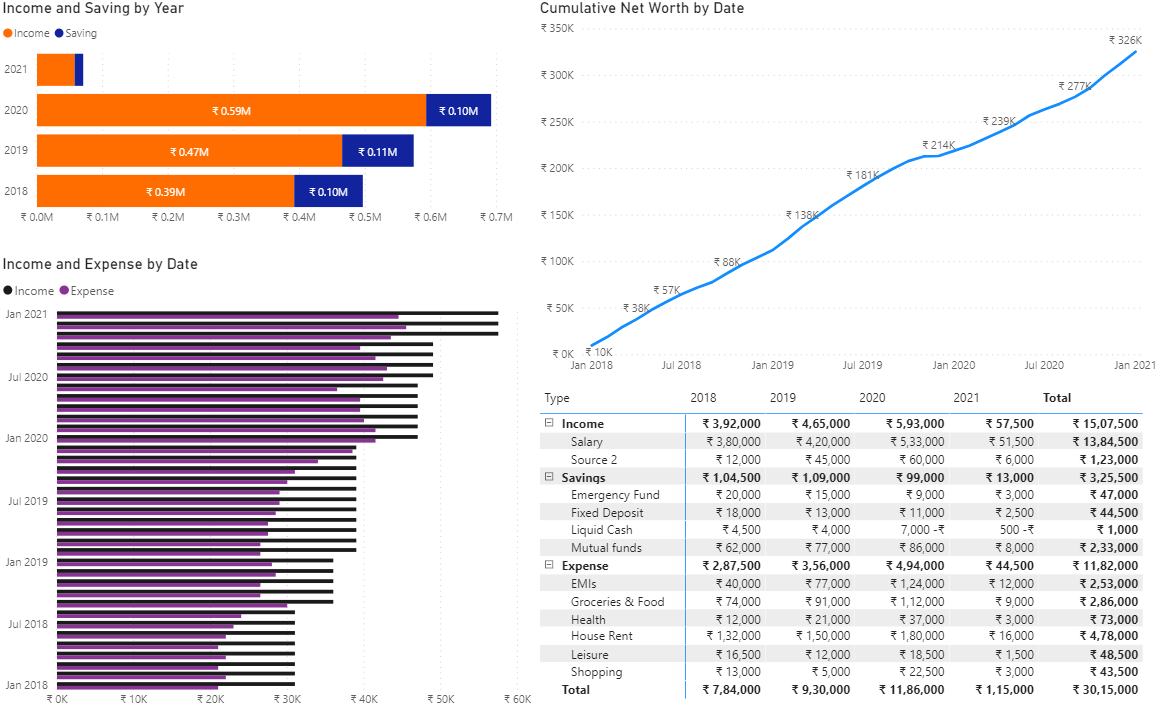

What the dashboard file says about the page in this screenshot:
{"tool":"powerbi","page":{"name":"Insights","canvas":[1280,790],"ordinal":1},"visuals":[{"type":"barChart","fields":{"Category":["FinData.Date.Variation.Date Hierarchy.Year","FinData.Date.Variation.Date Hierarchy.Quarter","FinData.Date.Variation.Date Hierarchy.Month","FinData.Date.Variation.Date Hierarchy.Day"],"Y":["Created Table.Income","Created Table.Saving"]},"box":[0,0,571.9,259.8],"z":0},{"type":"lineChart","fields":{"Category":["FinData.Date"],"Y":["Created Table.Cumulative Net Worth"]},"box":[591.2,0,688.8,423.5],"z":1000},{"type":"clusteredBarChart","fields":{"Category":["FinData.Date"],"Y":["Created Table.Income","Created Table.Expense"]},"box":[0,281.8,591.2,508.7],"z":2000},{"type":"pivotTable","fields":{"Rows":["Sequence.Type","FinData.Component"],"Values":["Sum(FinData.Value)"],"Columns":["FinData.Date.Variation.Date Hierarchy.Year","FinData.Date.Variation.Date Hierarchy.Quarter","FinData.Date.Variation.Date Hierarchy.Month","FinData.Date.Variation.Date Hierarchy.Day"]},"box":[591.2,423.5,688.8,367.1],"z":3000}]}

Visuals, with their boxes in screenshot pixels (x1, y1, x2, y2), scaled from the page's 1280x790 canvas onto the 1157x715 screenshot:
barChart - FinData.Date.Variation.Date Hierarchy.Year x FinData.Date.Variation.Date Hierarchy.Quarter: <bbox>0, 0, 517, 235</bbox>
lineChart - FinData.Date x Created Table.Cumulative Net Worth: <bbox>534, 0, 1156, 383</bbox>
clusteredBarChart - FinData.Date x Created Table.Income: <bbox>0, 255, 534, 714</bbox>
pivotTable - Sequence.Type x FinData.Component: <bbox>534, 383, 1156, 714</bbox>
